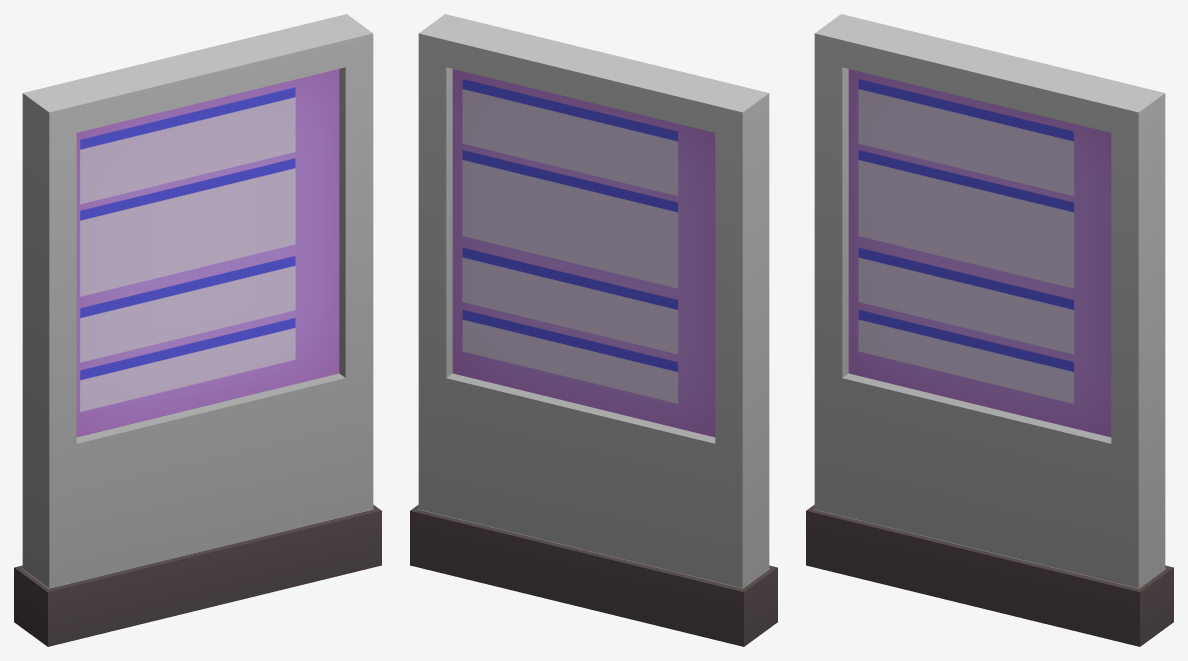
Rendered from Bus stop.fbx.
3 views of the same model, side by side, from view 1: azimuth 30°, elevation 25°; view 2: azimuth 150°, elevation 25°; view 3: azimuth 330°, elevation 25° (orthographic).
Visible parts, largest first — view 1: Bus Stop; view 2: Bus Stop; view 3: Bus Stop.
Part boxes in pixels (x1,y1,x2,y2): Bus Stop: [14, 14, 381, 646]; Bus Stop: [410, 14, 777, 646]; Bus Stop: [806, 14, 1173, 646].
Size of the model in its own units: 1.81 by 2.75 by 0.3166.
1 material, 1 textured.
